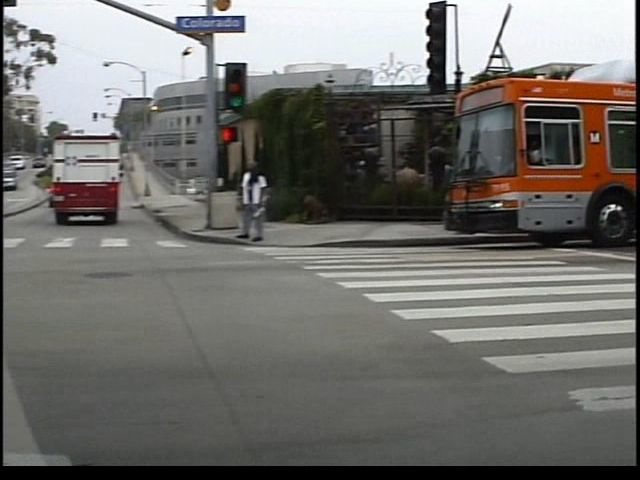person: (245, 157, 279, 244)
